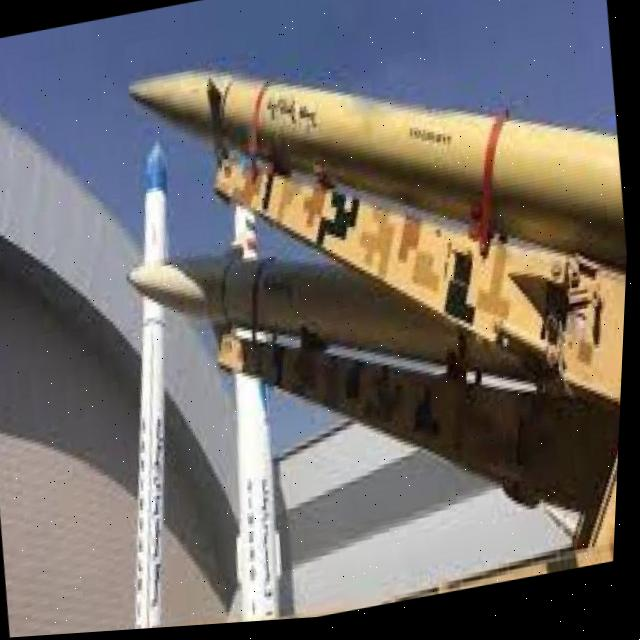missile: (118, 0, 639, 362), (119, 194, 560, 452), (77, 128, 256, 635)
